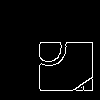Q: (27, 25, 70, 76)
